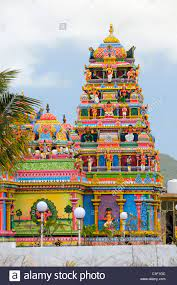Temple: (21, 26, 164, 240)
